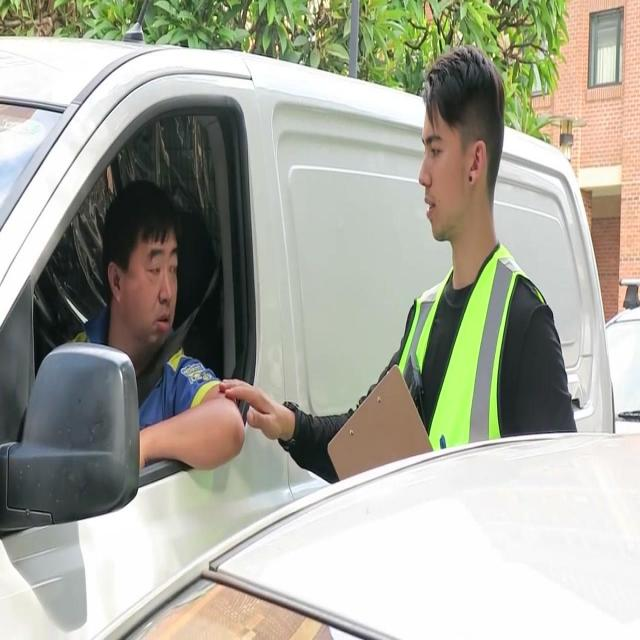Reflective-Jacket: (393, 238, 557, 449)
